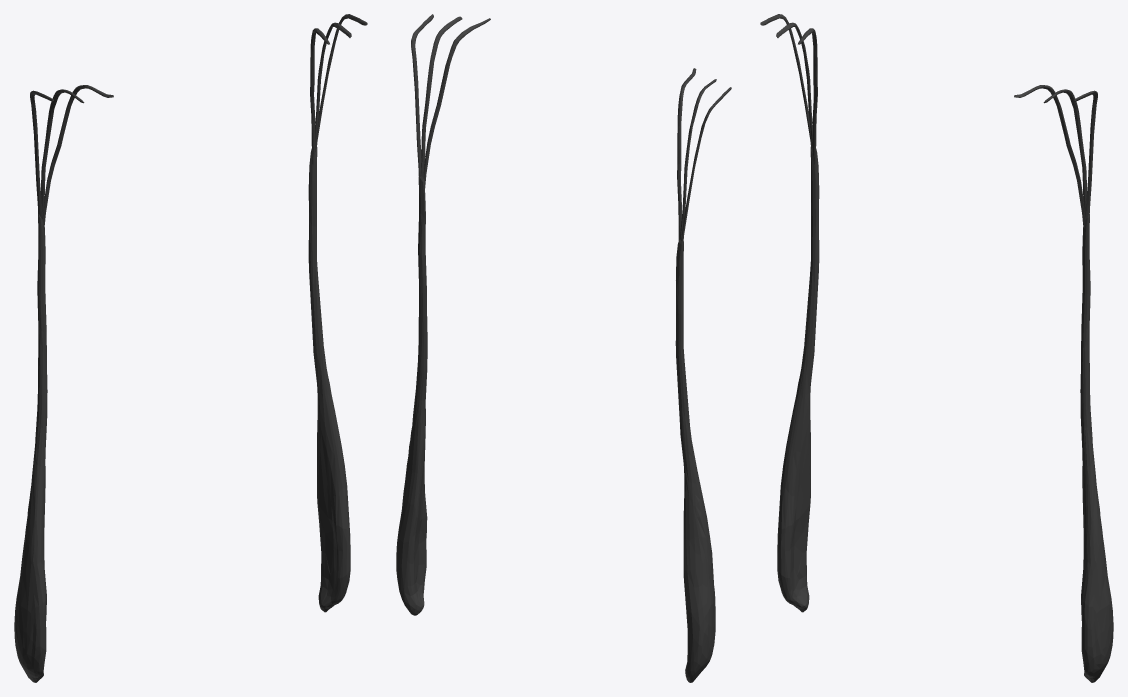
Rendered from m_extensor_digitorum_lateralis_FL.glb.
3 views of the same model, side by side, from view 1: azimuth 30°, elevation 25°; view 2: azimuth 150°, elevation 25°; view 3: azimuth 330°, elevation 25° (orthographic). The views are drawn at different scales.
Parts seen in each view (by area): view 1: m_extensor_digitorum_lateralis_FL; view 2: m_extensor_digitorum_lateralis_FL; view 3: m_extensor_digitorum_lateralis_FL.
Boxes of the visible parts, x1,y1,x2,y2 form: m_extensor_digitorum_lateralis_FL: [14, 14, 367, 682]; m_extensor_digitorum_lateralis_FL: [396, 14, 731, 682]; m_extensor_digitorum_lateralis_FL: [760, 14, 1113, 682].
Bounding box in the file's own units: 0.00461 × 0.00819 × 0.00117.
1 material, 1 textured.
